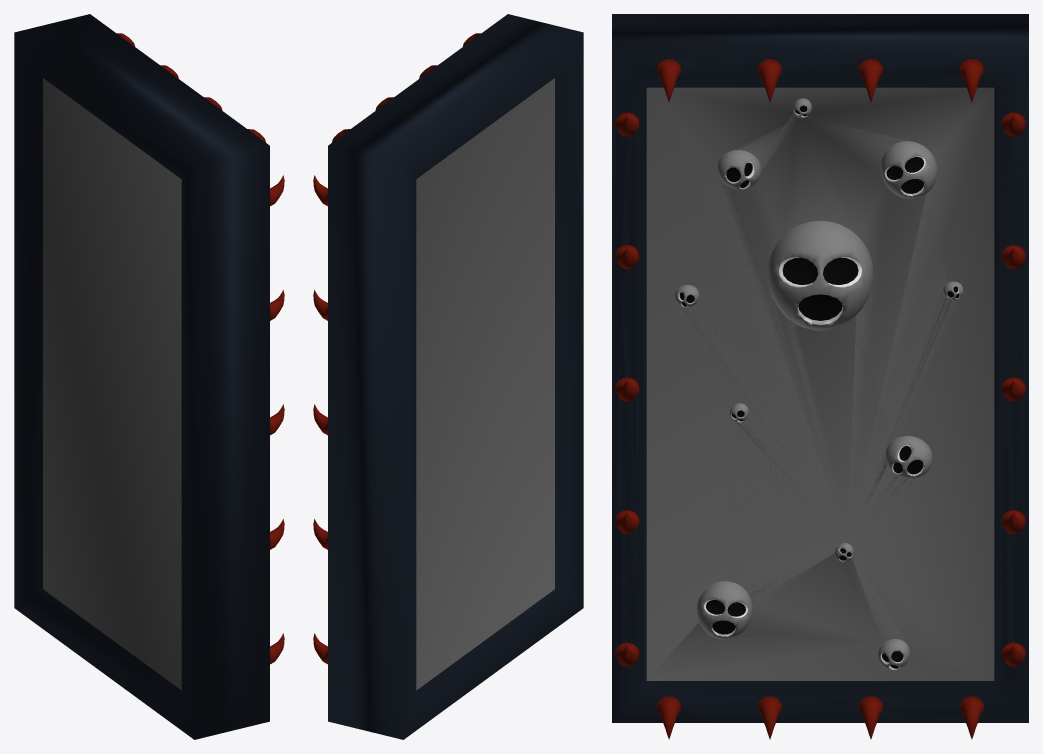
Rendered from SM_Evil_Door.fbx.
3 views of the same model, side by side, from view 1: azimuth 30°, elevation 25°; view 2: azimuth 150°, elevation 25°; view 3: azimuth 270°, elevation 25° (orthographic). The views are drawn at different scales.
Parts seen in each view (by area): view 1: Evil_Door; view 2: Evil_Door; view 3: Evil_Door.
Part boxes in pixels (bbox=[...]): Evil_Door: bbox=[14, 14, 284, 739]; Evil_Door: bbox=[313, 14, 583, 739]; Evil_Door: bbox=[612, 14, 1028, 739].
Size of the model in its own units: 48.2 by 244 by 137.
